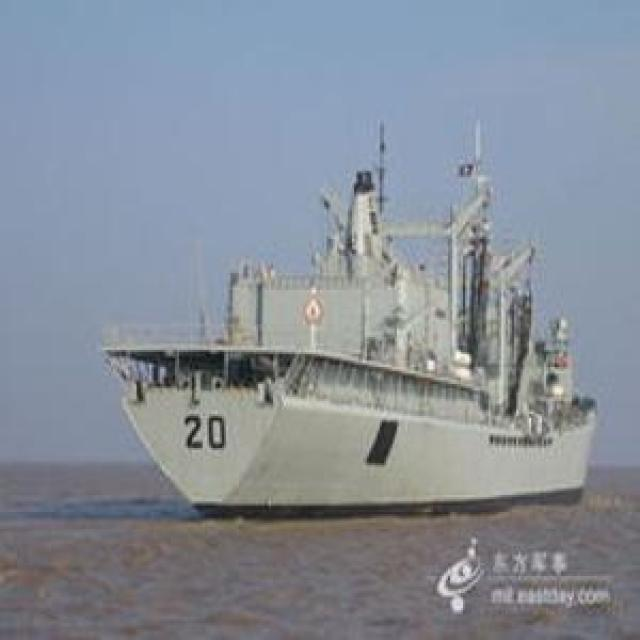navalvessels: (104, 122, 610, 525)
